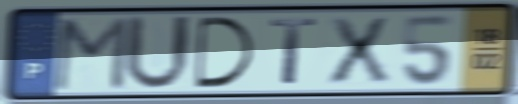5: (399, 12, 455, 89)
D: (193, 14, 259, 91)
M: (49, 14, 133, 93)
T: (267, 16, 321, 87)
U: (121, 12, 194, 94)
X: (325, 15, 394, 88)
